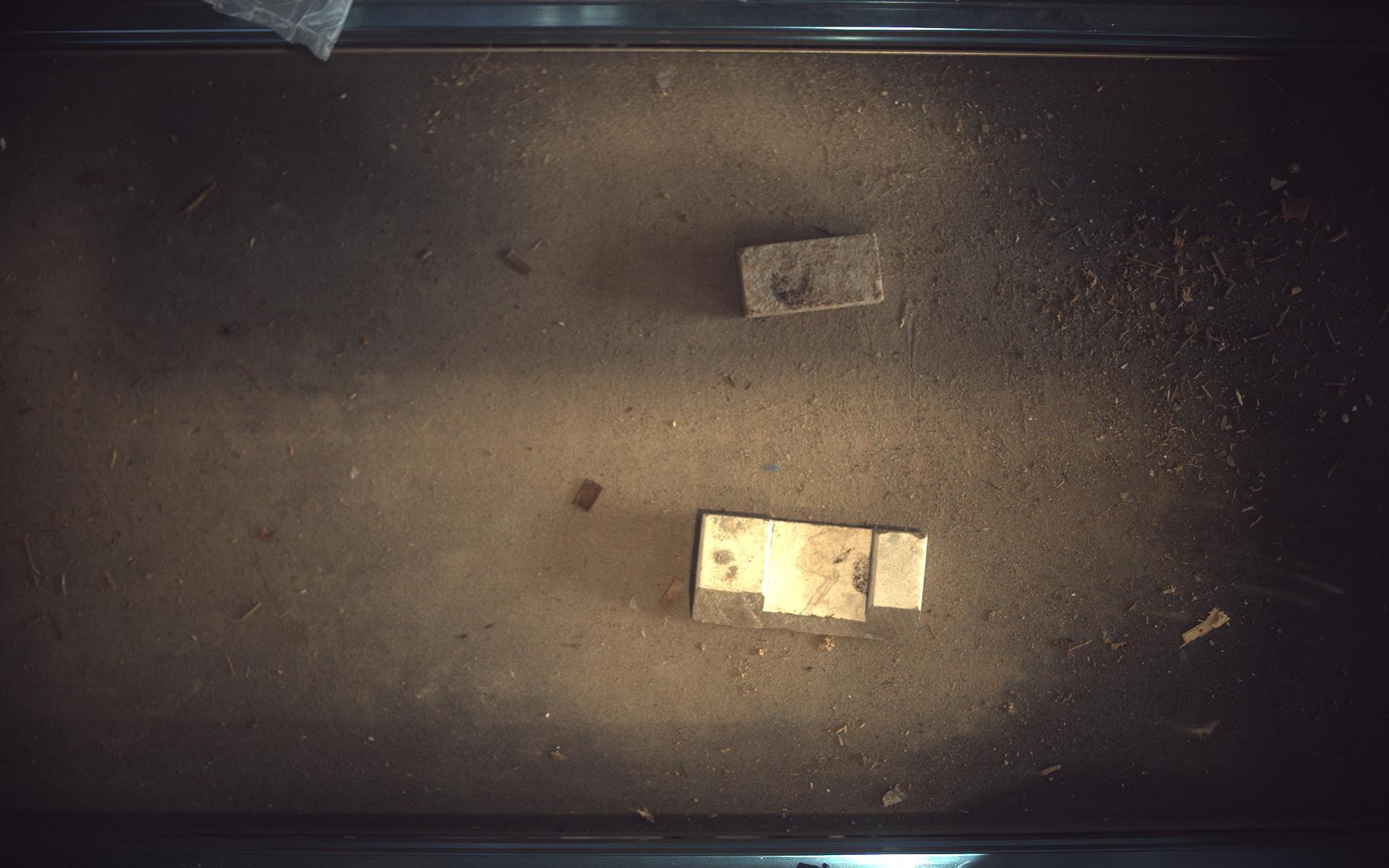wood: (693, 513, 930, 639), (739, 232, 885, 318)
